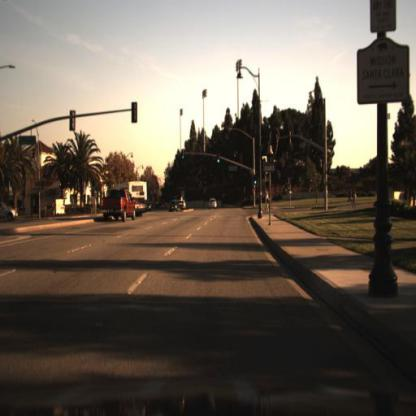car: (100, 188, 137, 224), (123, 181, 150, 215), (207, 199, 222, 213), (209, 195, 220, 213), (168, 199, 182, 213)
pedestrian: (264, 189, 273, 218), (351, 187, 360, 213), (351, 188, 359, 211), (266, 191, 271, 216)
trafficLight-Green: (177, 147, 185, 168), (215, 151, 223, 169), (254, 173, 260, 189)
truck: (133, 182, 151, 216)
